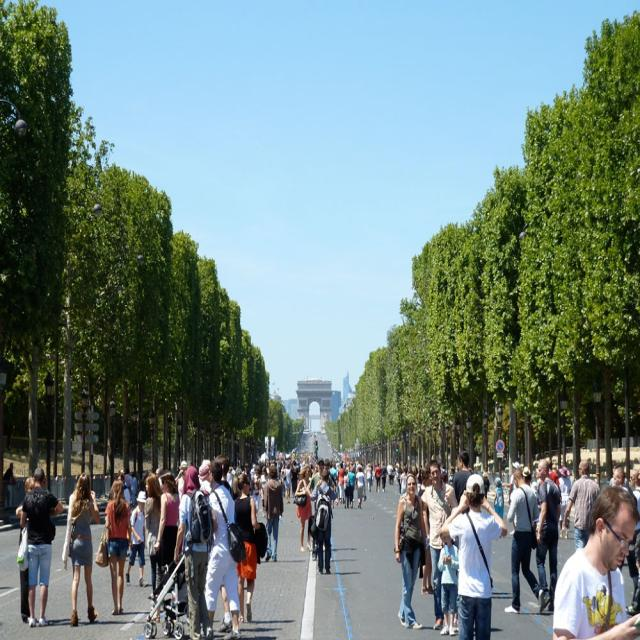body: (0, 446, 640, 640), (549, 482, 639, 639), (440, 471, 510, 639), (202, 457, 248, 639), (172, 464, 219, 639), (19, 466, 64, 628), (420, 459, 460, 632), (61, 470, 101, 629), (504, 466, 546, 616), (94, 476, 133, 616), (393, 471, 427, 631), (149, 470, 181, 625), (231, 472, 262, 624), (534, 459, 562, 616), (612, 466, 640, 614), (14, 475, 40, 626), (562, 458, 602, 552), (310, 467, 338, 577), (309, 456, 337, 563), (143, 471, 165, 601), (124, 490, 150, 590), (436, 526, 459, 637), (262, 464, 284, 564), (294, 462, 314, 552), (450, 450, 472, 514), (556, 466, 572, 540), (508, 460, 522, 532), (296, 427, 332, 447), (174, 458, 189, 502), (258, 465, 270, 518), (251, 465, 261, 518), (354, 466, 366, 510), (493, 477, 505, 519), (346, 464, 356, 510), (282, 462, 292, 504), (324, 458, 338, 488), (336, 462, 346, 504), (342, 469, 350, 510), (290, 460, 299, 496), (1, 462, 16, 482), (380, 462, 388, 493), (366, 462, 373, 493), (374, 463, 381, 494)
